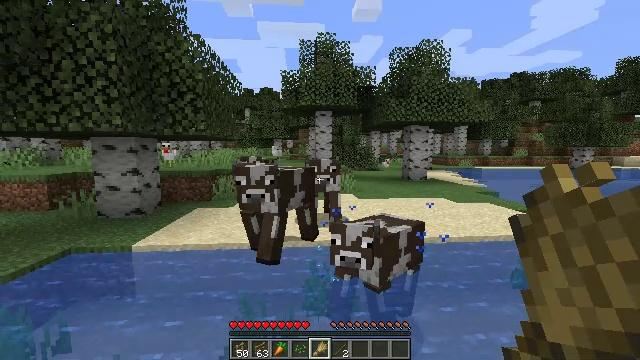cow: (236, 166, 312, 257), (333, 215, 424, 281), (307, 159, 341, 215)
